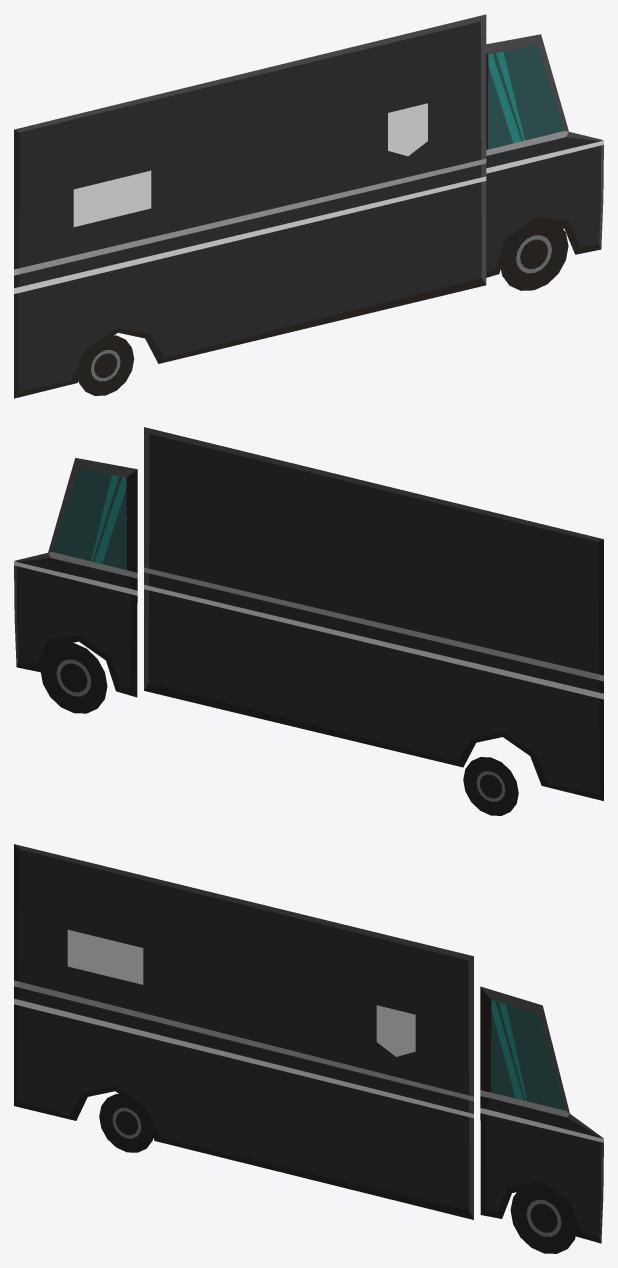
File: Van.fbx
3 renders of one model, top to bottom at view 1: azimuth 30°, elevation 25°; view 2: azimuth 150°, elevation 25°; view 3: azimuth 330°, elevation 25°, orthographic. The views are drawn at different scales.
Parts seen in each view (by area): view 1: Cube_001; view 2: Cube_001; view 3: Cube_001.
Part boxes in pixels (x1,y1,x2,y2): Cube_001: [14, 14, 603, 398]; Cube_001: [14, 427, 603, 815]; Cube_001: [14, 844, 603, 1253].
Size of the model in its own units: 7.51 by 3.6 by 0.3127.
